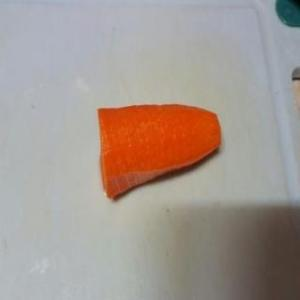carrot: (96, 100, 222, 202)
